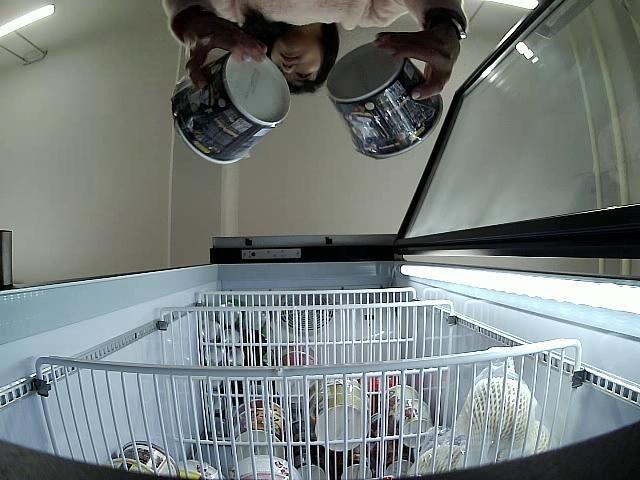07_buldak_L: (327, 39, 442, 162), (174, 50, 292, 166)
